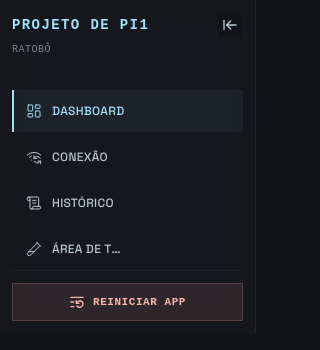
it: Sidebar › colapsa e exibe tooltips com atalhos de teclado
Expected: the text "RATOBÔ" is shown, [12,44,51,55]
Click the button named "Toggle sidebar". click: (230,25)
box: [217,12,243,38]
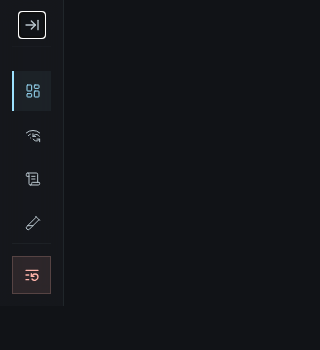
Expected: the text "RATOBÔ" is gone
Expected: the text "Dashboard" is gone
Expected: the button titled "Dashboard (Ctrl + shift + D)" is shown, [12,71,51,111]
